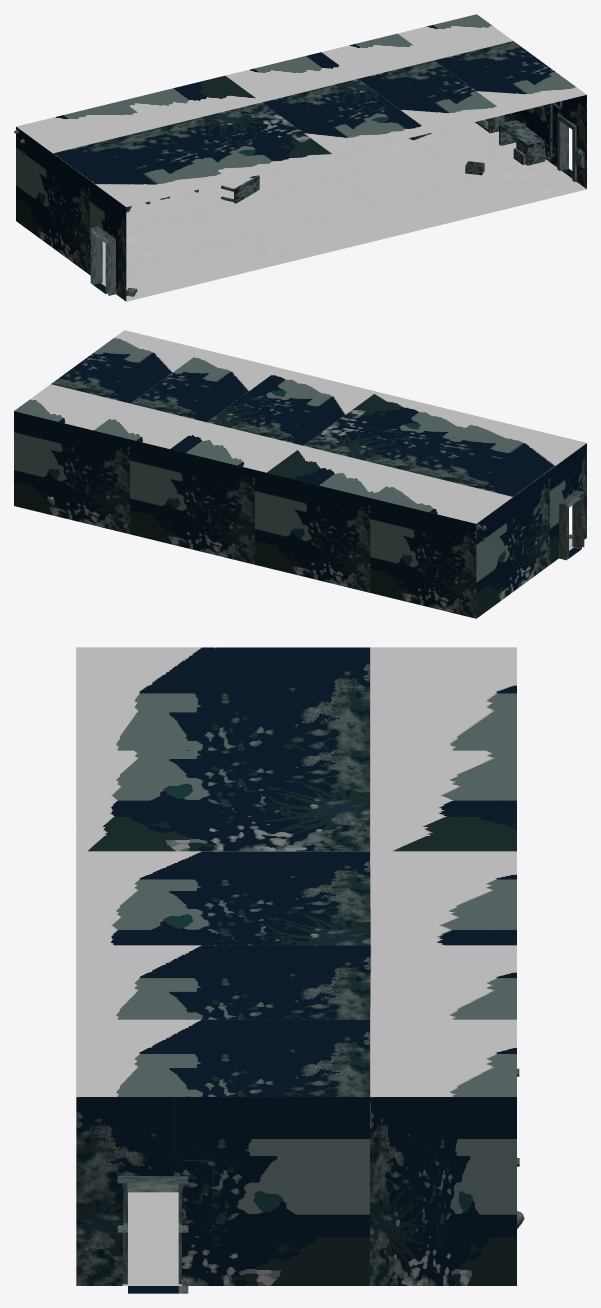
File: MSH_QuestStandard_L1_R3_optimized.fbx
The picture shows the model from 3 angles, top to bottom: view 1: azimuth 30°, elevation 25°; view 2: azimuth 150°, elevation 25°; view 3: azimuth 270°, elevation 25°; orthographic projection. The views are drawn at different scales.
Parts seen in each view (by area): view 1: MSH_QuestStandard_L1_R3_ceiling_01, lightmap5, lightmap3, lightmap4, lightmap1, MSH_QuestStandard_L1_R3_paper_01; view 2: lightmap3, MSH_QuestStandard_L1_R3_ceiling_01, lightmap1; view 3: MSH_QuestStandard_L1_R3_ceiling_01, lightmap3, lightmap5, lightmap1.
Part boxes in pixels (x1,y1,x2,y2): MSH_QuestStandard_L1_R3_ceiling_01: (16,14,586,206); lightmap5: (101,122,586,301); lightmap3: (14,95,586,301); lightmap4: (21,115,545,212); lightmap1: (90,114,576,295); MSH_QuestStandard_L1_R3_paper_01: (102,133,557,281); lightmap3: (14,411,586,618); MSH_QuestStandard_L1_R3_ceiling_01: (14,330,586,523); lightmap1: (33,441,584,560); MSH_QuestStandard_L1_R3_ceiling_01: (76,647,516,1096); lightmap3: (76,771,516,1285); lightmap5: (122,1192,181,1285); lightmap1: (117,1068,524,1293).
Size of the model in its own units: 30.91 by 5.98 by 12.6.
